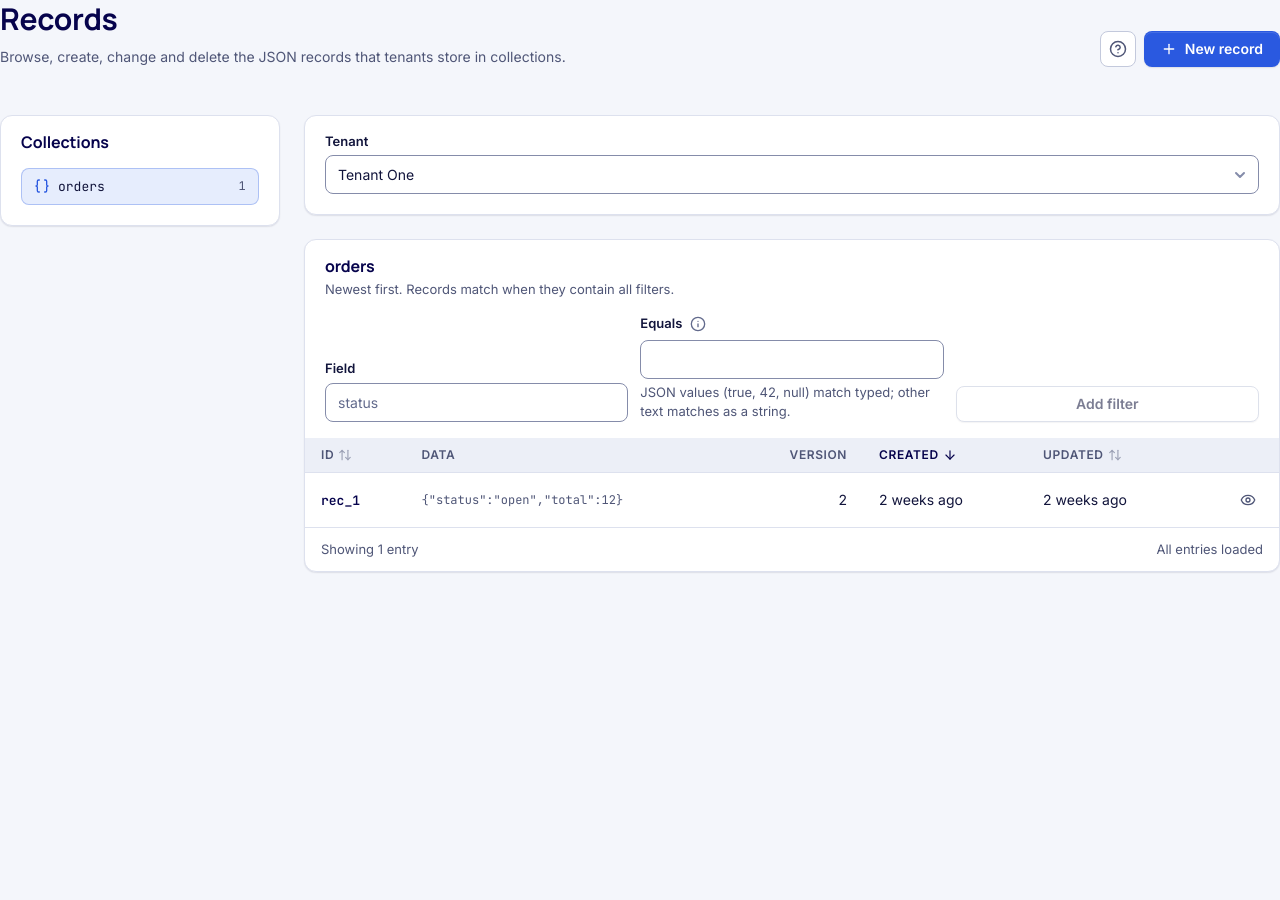
it: RecordsPage › deletes a record after confirmation with If-Match
Click the button named "View record rec_1" at (1248, 500), box [1233,484,1263,514]
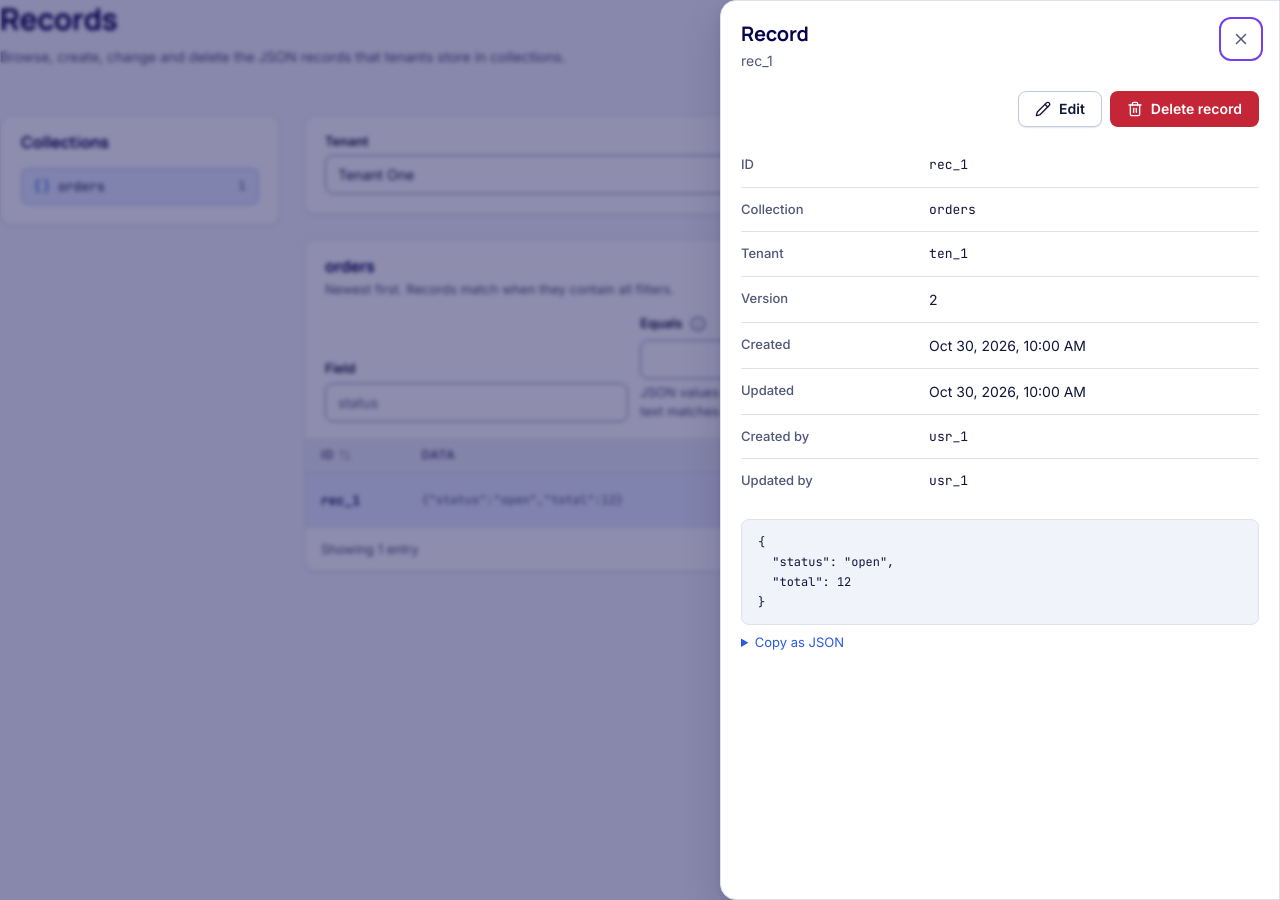
Click the button "Delete record" at (1184, 109), box [1110,91,1259,127]
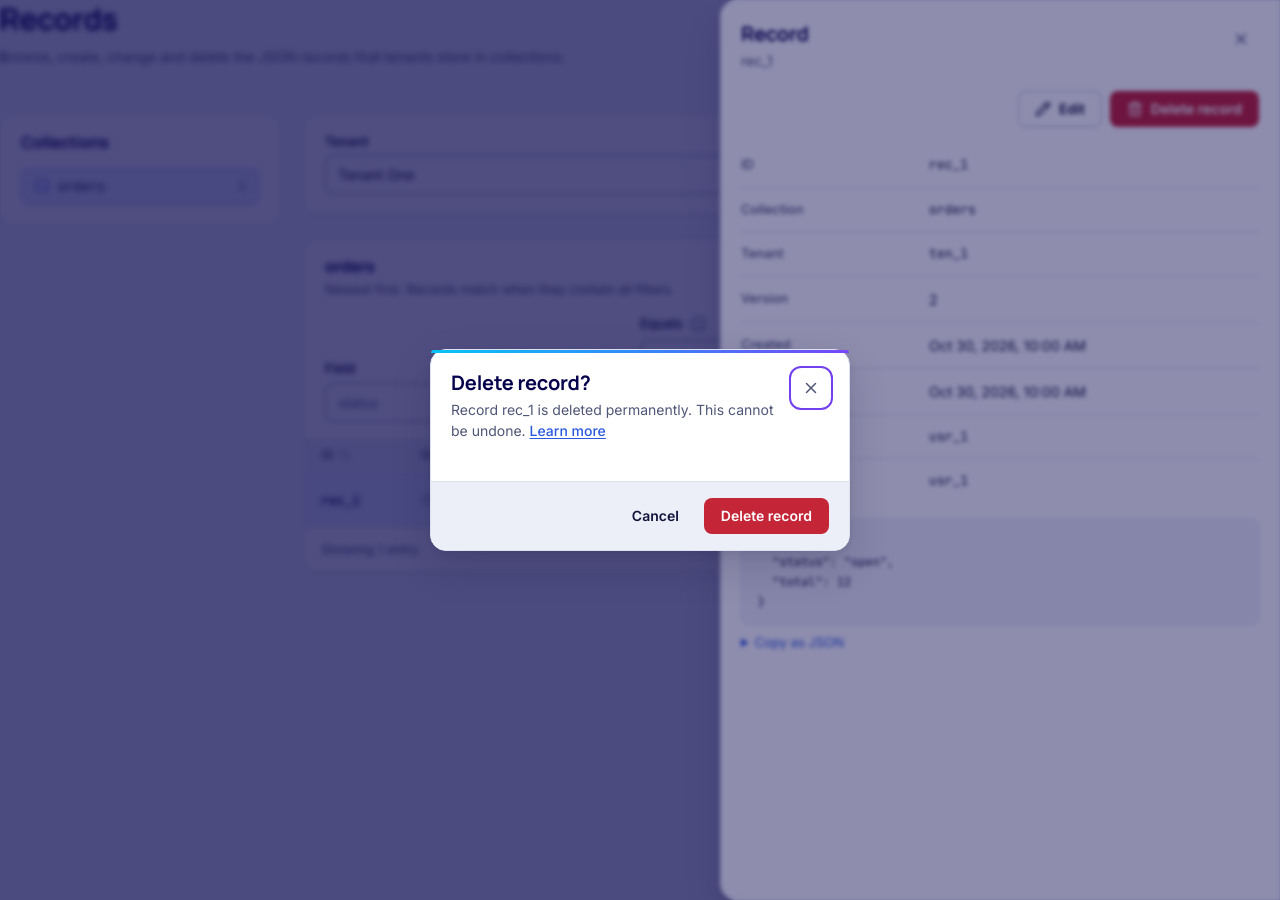
Click the button "Delete record" at (766, 516), box [704,498,829,534]
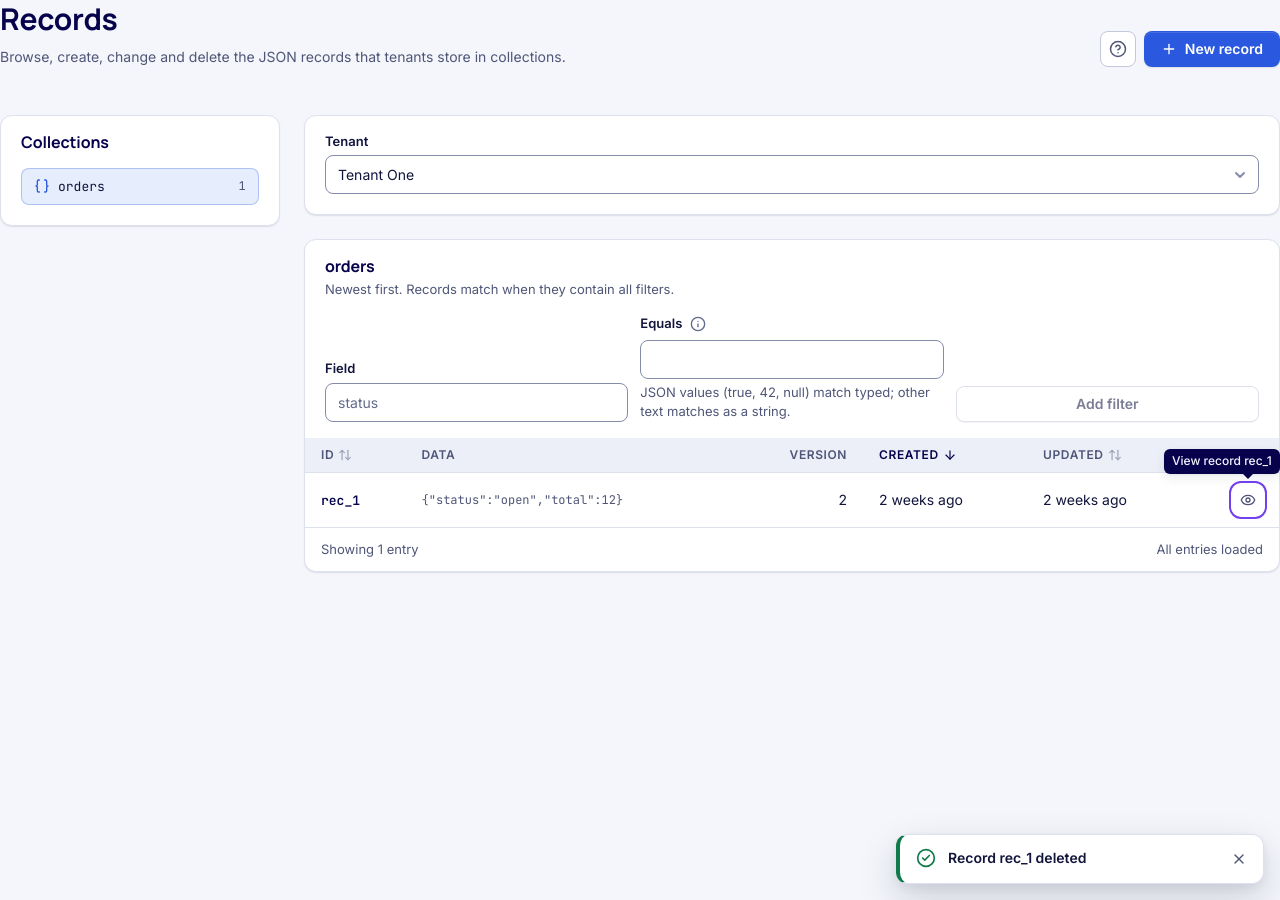
expect the text "Record rec_1 deleted" is shown: met, box [948,849,1086,866]
